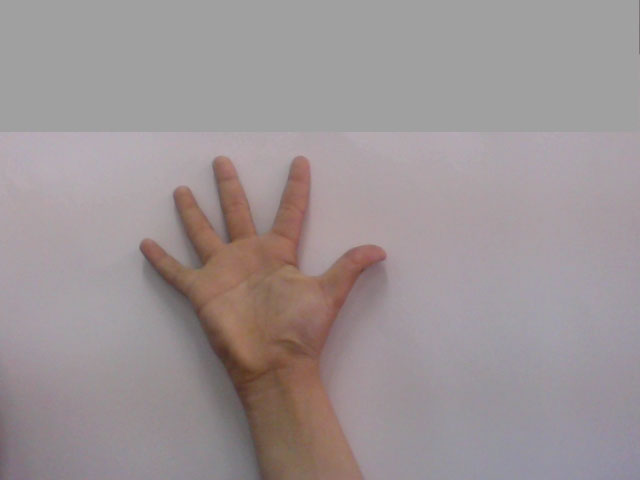hand: (132, 141, 402, 364)
